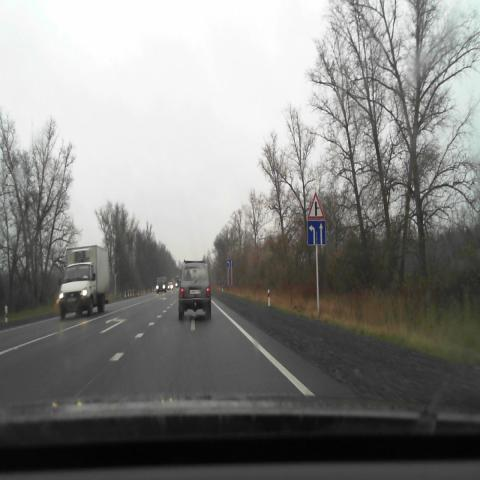2_3_2: (308, 192, 325, 219)
5_15_2_2: (307, 220, 326, 245)
